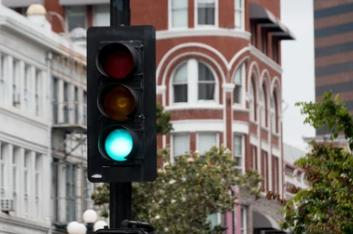green_light: (87, 25, 157, 182)
